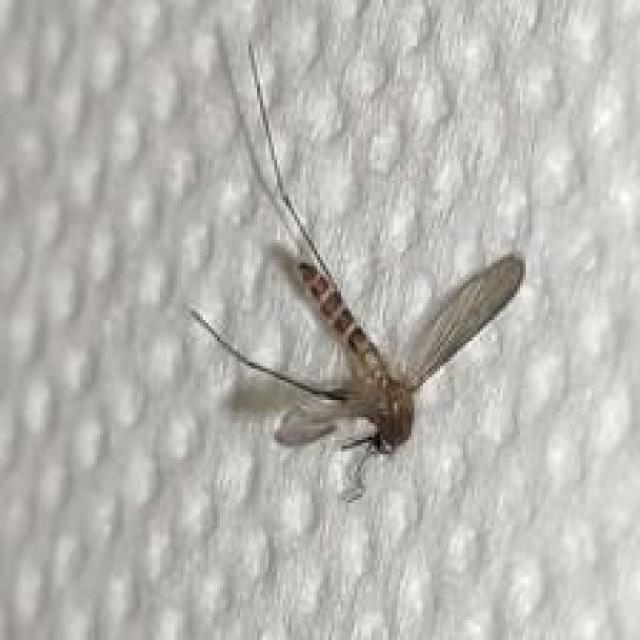Culex: (185, 34, 526, 503)
